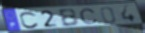0: (100, 6, 118, 24)
2: (40, 10, 59, 28)
4: (122, 5, 138, 24)
B: (57, 8, 80, 28)
C: (19, 10, 41, 29), (78, 8, 99, 25)
